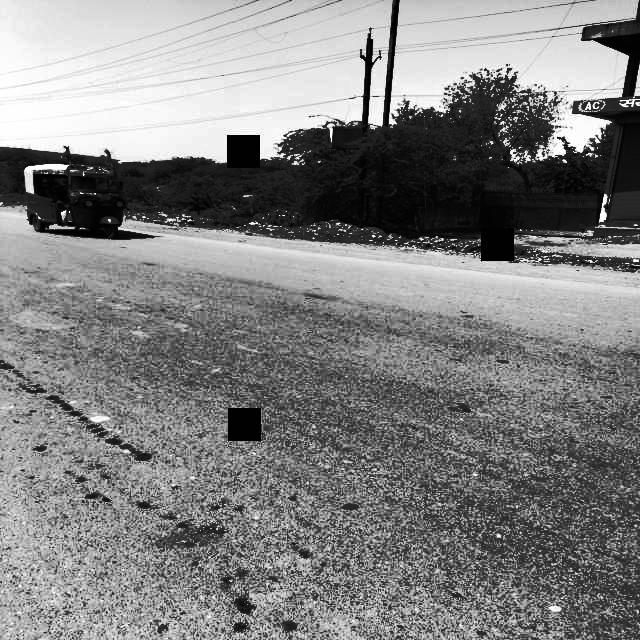Auto-Rickshaw: (16, 156, 136, 242)
